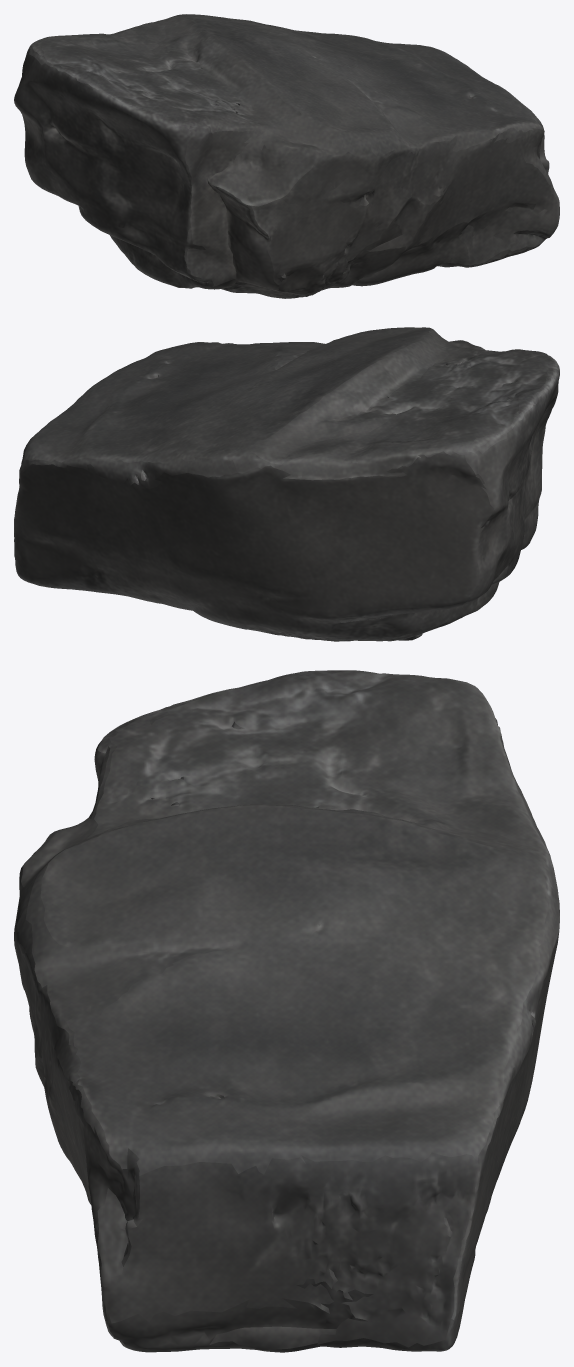
3 views of the same model, one above another, from view 1: azimuth 30°, elevation 25°; view 2: azimuth 150°, elevation 25°; view 3: azimuth 270°, elevation 25° (orthographic). The views are drawn at different scales.
Visible parts, largest first — view 1: world; view 2: world; view 3: world.
Boxes of the visible parts, left/top/right/bottom form: world: left=14, top=14, right=559, bottom=298; world: left=14, top=327, right=559, bottom=641; world: left=14, top=670, right=559, bottom=1352.
Bounding box in the file's own units: 2.5 × 1.27 × 1.7.
1 material, 1 textured.
